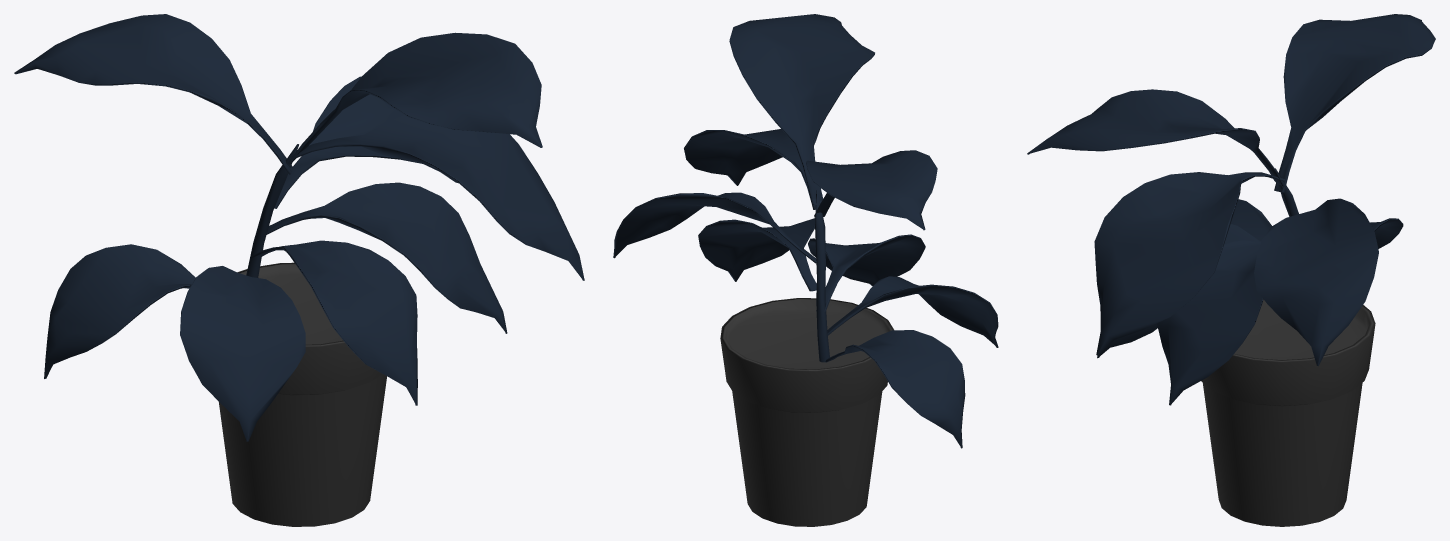
The model's file is PlantSmall_wideLeaves.fbx.
3 renders of one model, left to right at view 1: azimuth 30°, elevation 25°; view 2: azimuth 150°, elevation 25°; view 3: azimuth 270°, elevation 25°, orthographic. The views are drawn at different scales.
Visible parts, largest first — view 1: PlantSmall_wideLeaves; view 2: PlantSmall_wideLeaves; view 3: PlantSmall_wideLeaves.
Part boxes in pixels (x1,y1,x2,y2): PlantSmall_wideLeaves: (14,14,584,526); PlantSmall_wideLeaves: (613,14,998,526); PlantSmall_wideLeaves: (1027,14,1435,526).
Bounding box in the file's own units: 39.29 × 41.48 × 35.94.
